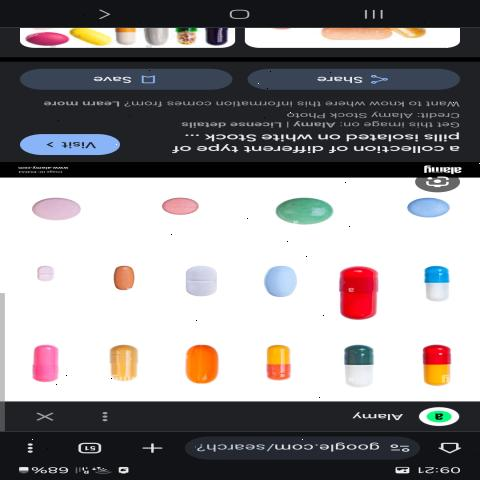Pill: (0, 322, 82, 389), (316, 258, 393, 326), (323, 334, 389, 394), (88, 333, 160, 387), (262, 190, 344, 234), (174, 334, 237, 390), (397, 336, 456, 391), (168, 253, 234, 298), (22, 184, 91, 226), (246, 252, 302, 302), (380, 194, 464, 227), (412, 259, 467, 309), (249, 339, 309, 382), (148, 190, 207, 226), (95, 256, 149, 294), (27, 258, 63, 284)
